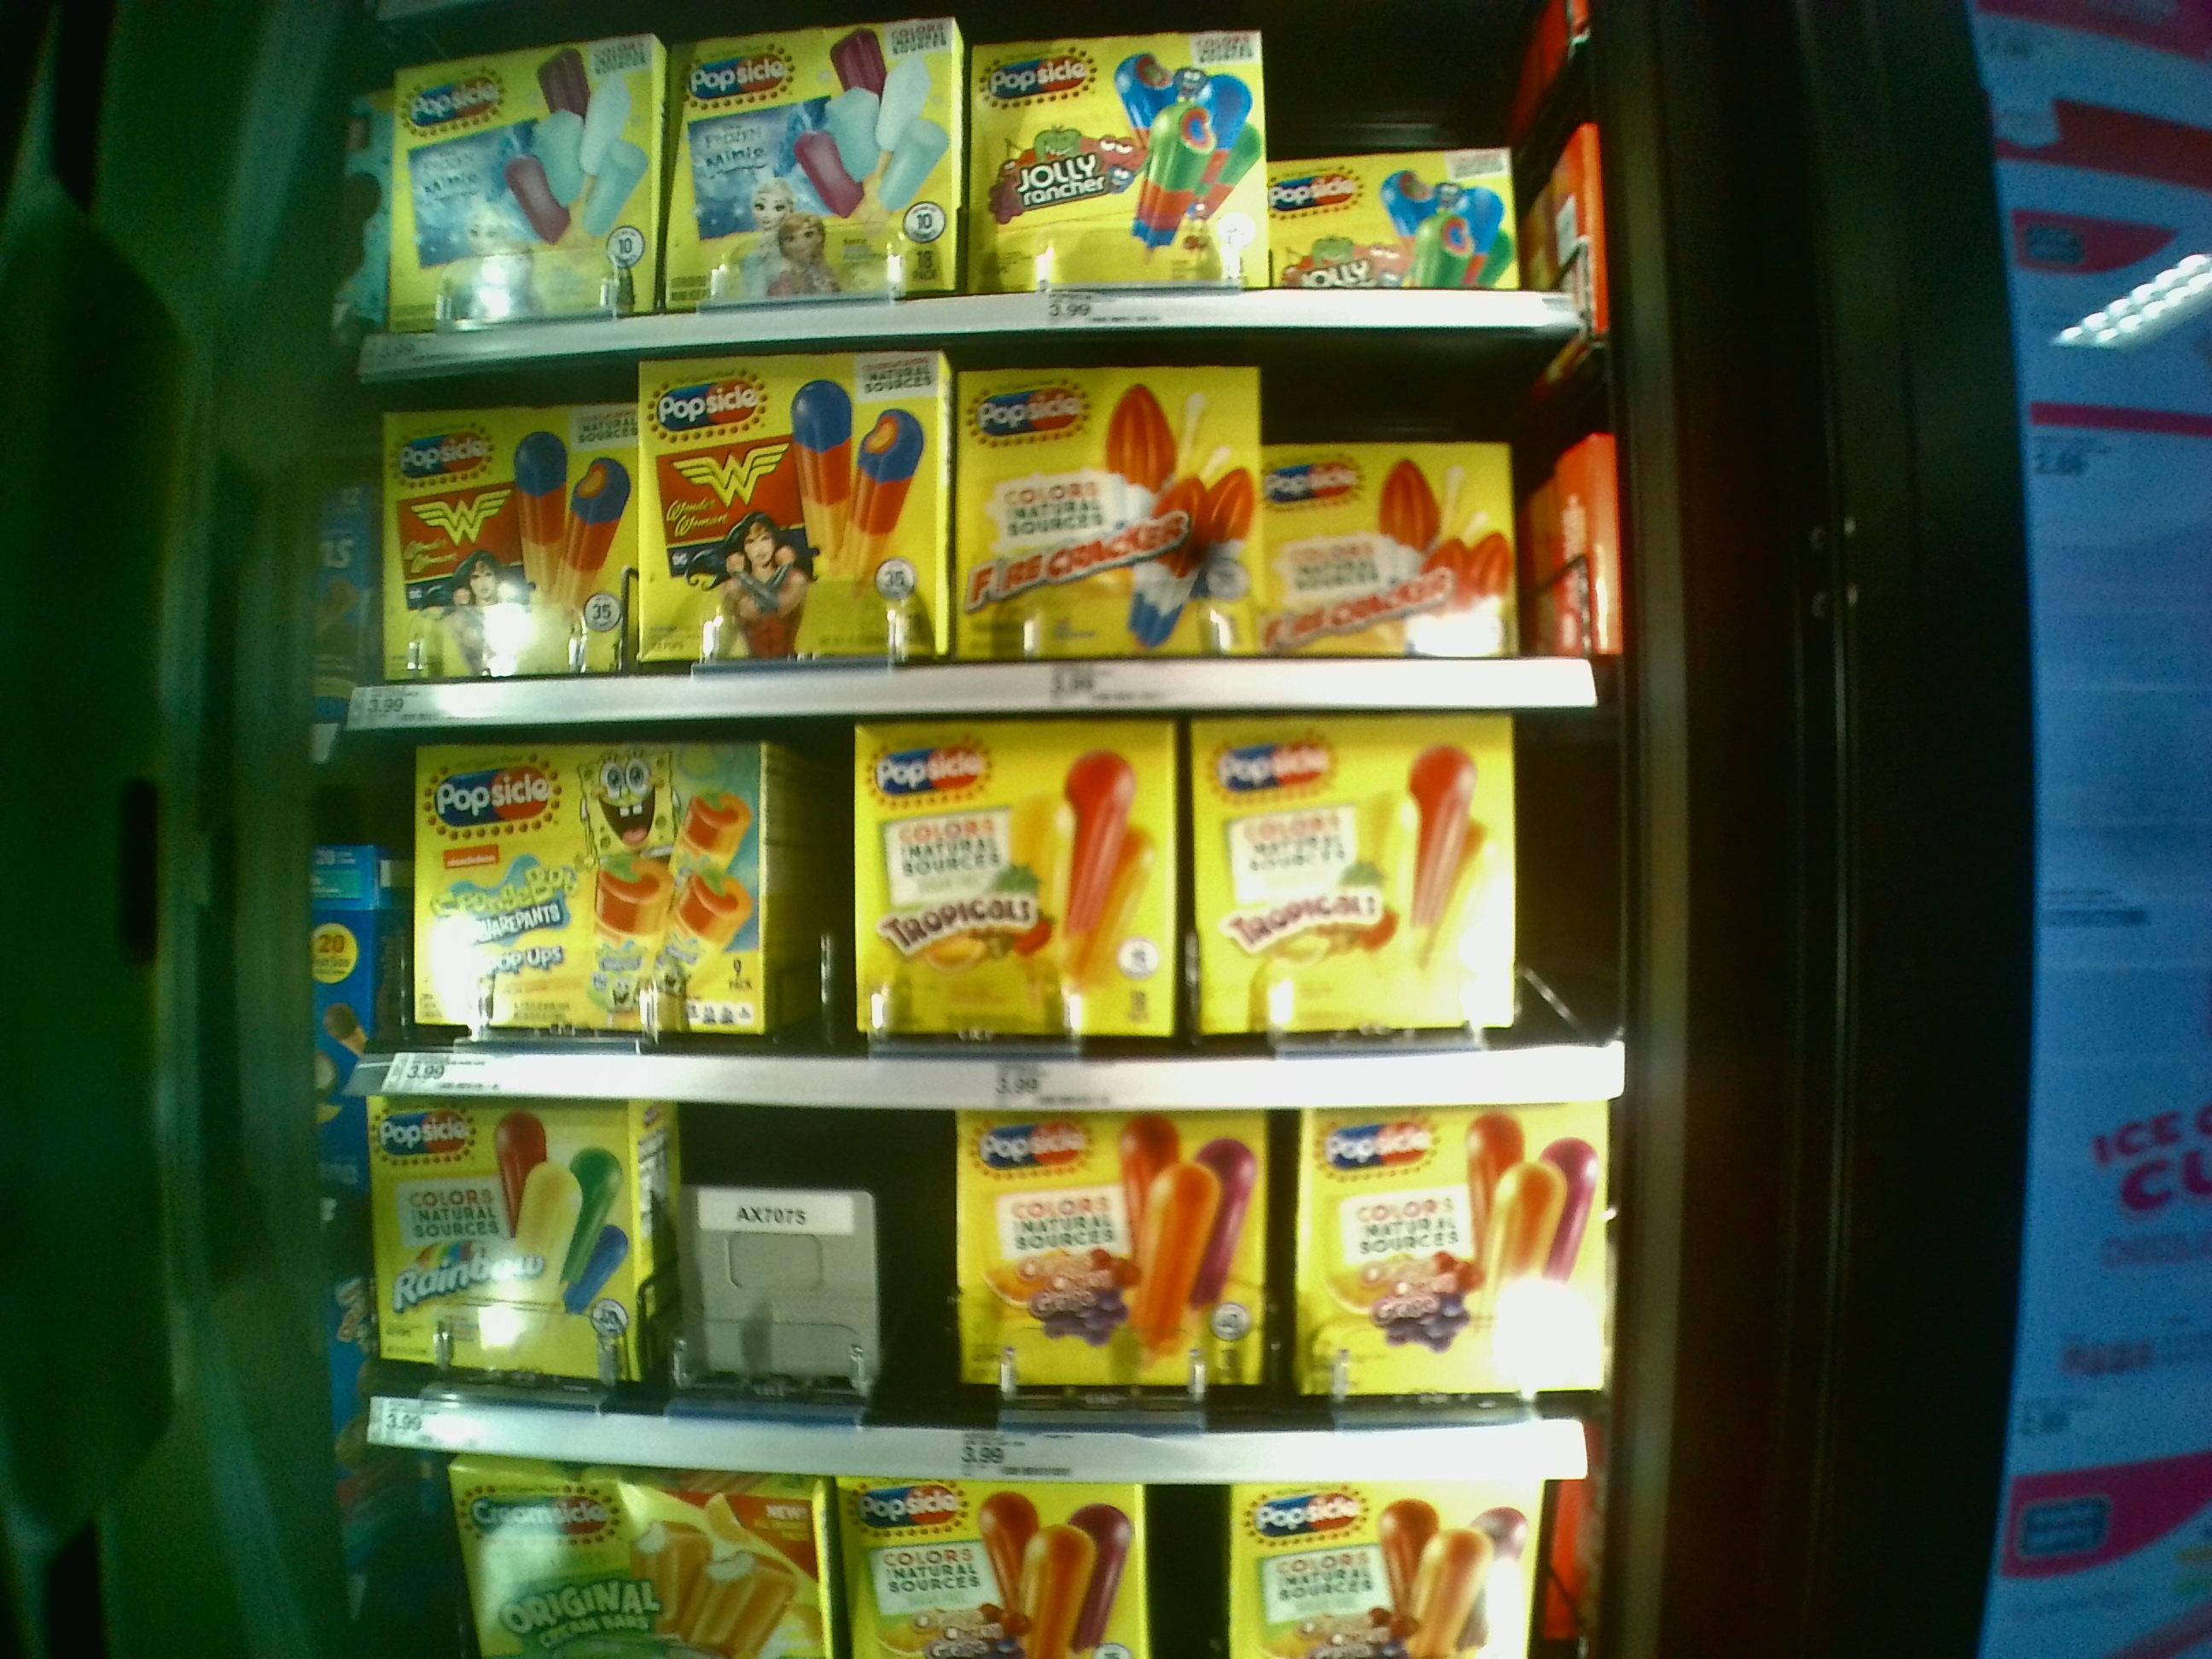frozen-food-shelf: (320, 734, 1649, 1114), (319, 1114, 1646, 1490), (324, 382, 1629, 737), (343, 26, 1590, 375)
